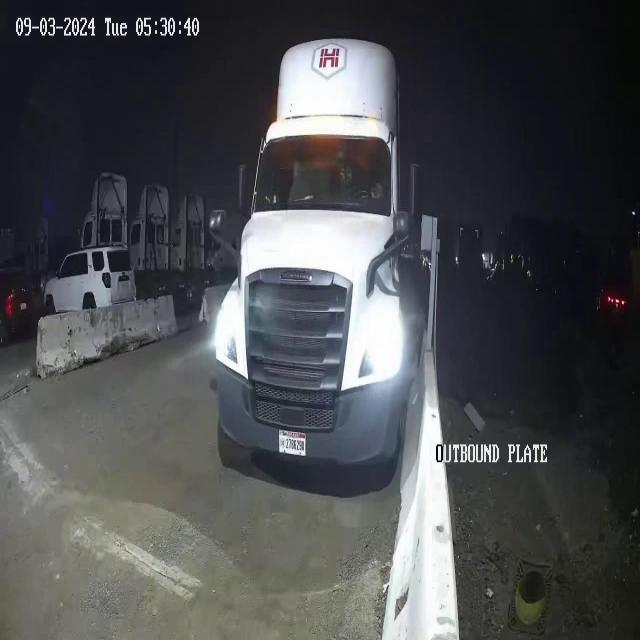TRUCK_OUT: (212, 36, 424, 477)
